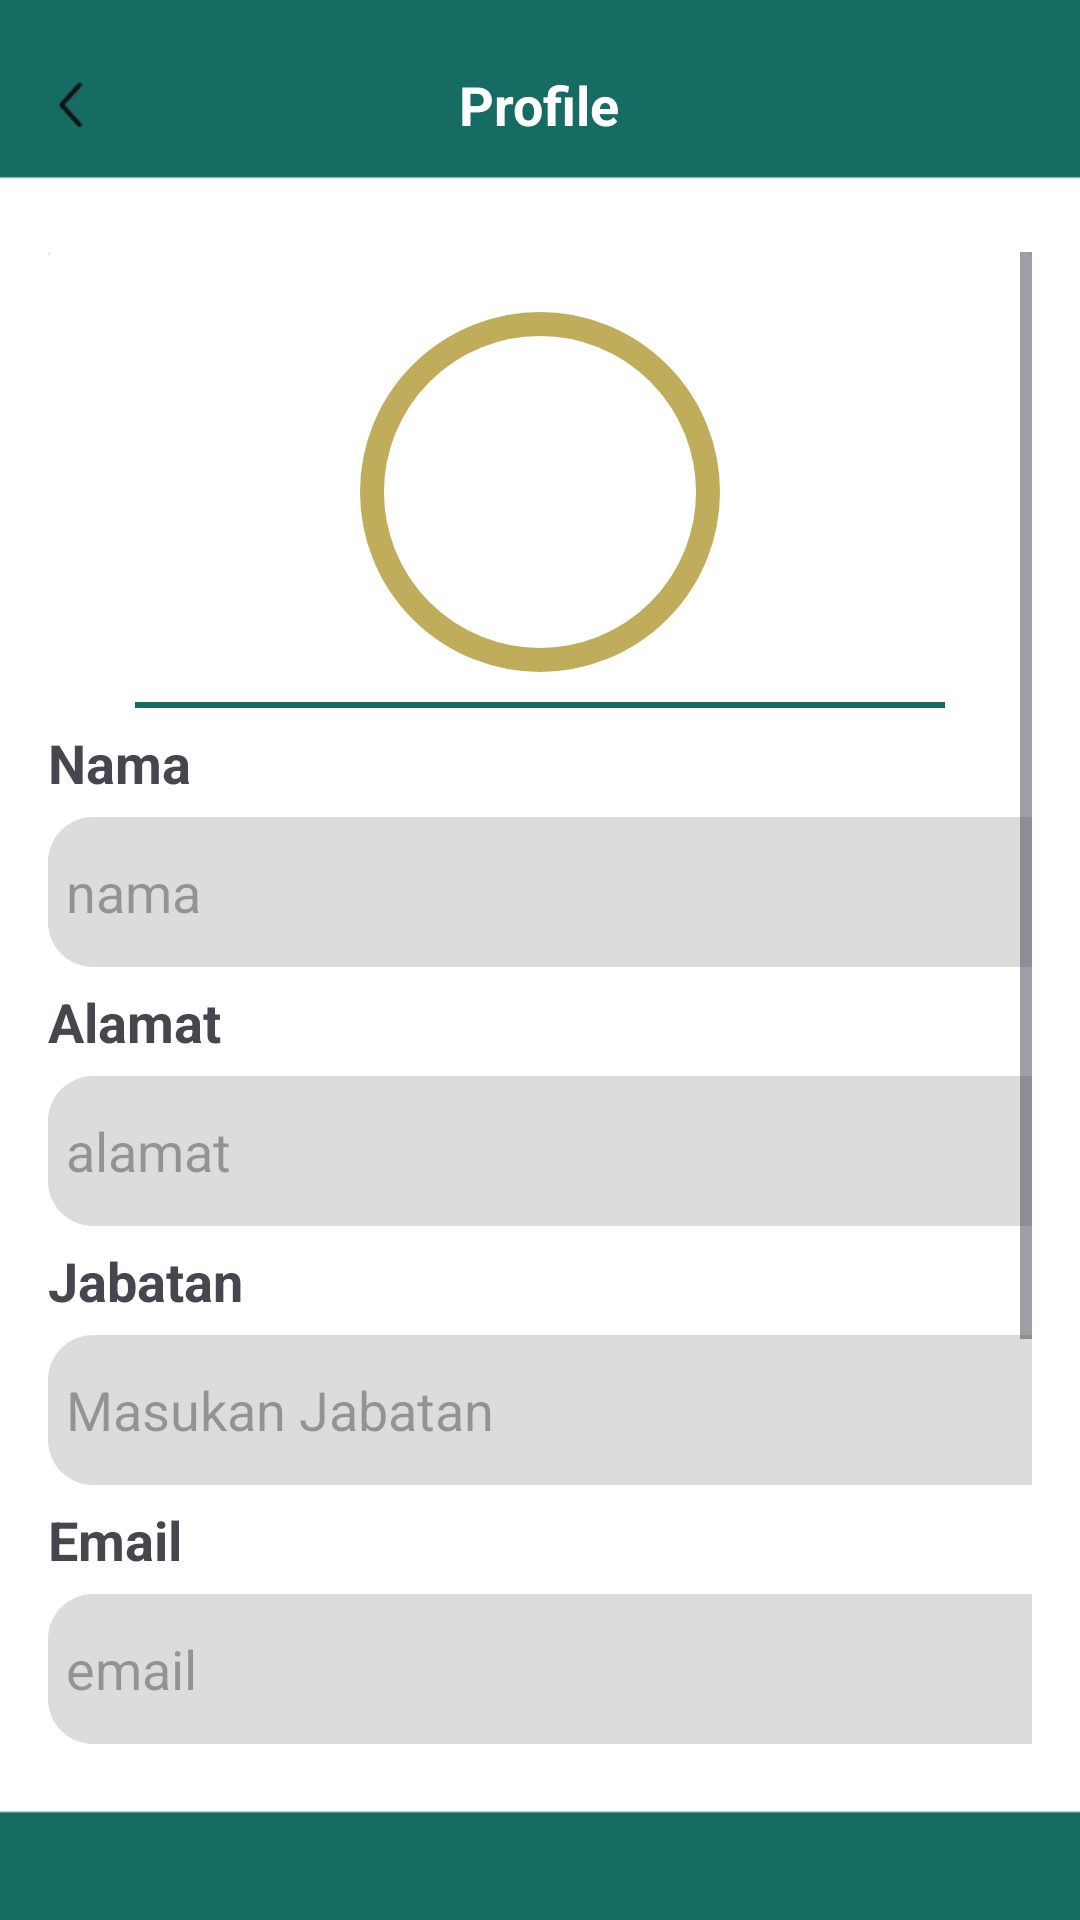

Icon bounding boxes for this 1080px x 1920px phone screenshot, format (x1, y1, x2, y2):
back: (59, 82, 83, 127)
